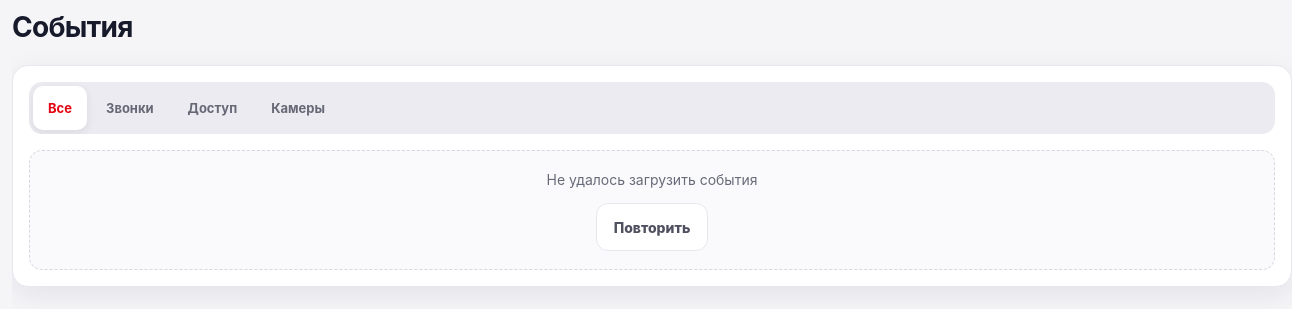
Test: event journal › shows a stable retry state without rendering a raw error
Expected: the text "Не удалось загрузить события" is shown, [547,169,758,191]
What coordinates should you click on to do the following:
click the button "Повторить"
I would click on:
 (652, 227)
Its box is [596,203,708,251].
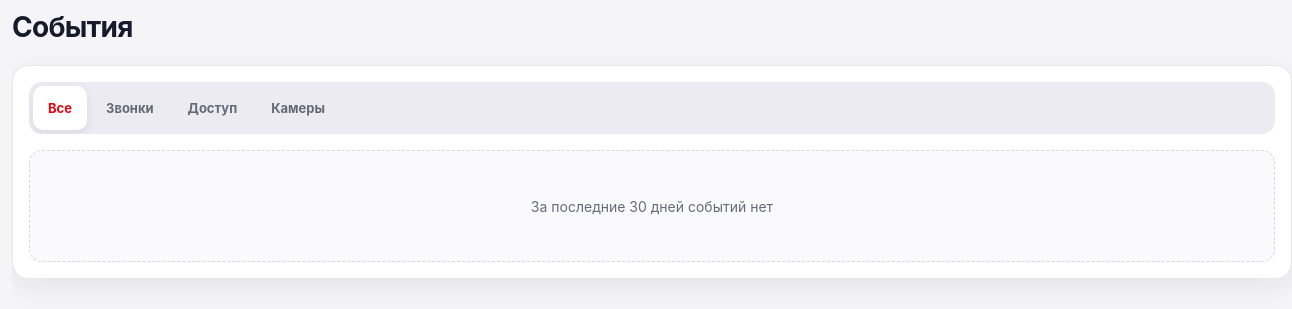
Now the text "За последние 30 дней событий нет" is shown, box [29,150,1275,262]
